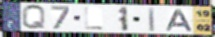1: (118, 6, 131, 33)
7: (49, 5, 73, 31)
A: (165, 9, 194, 32)
I: (148, 7, 156, 33)
L: (84, 6, 105, 31)
Q: (21, 4, 47, 31)
